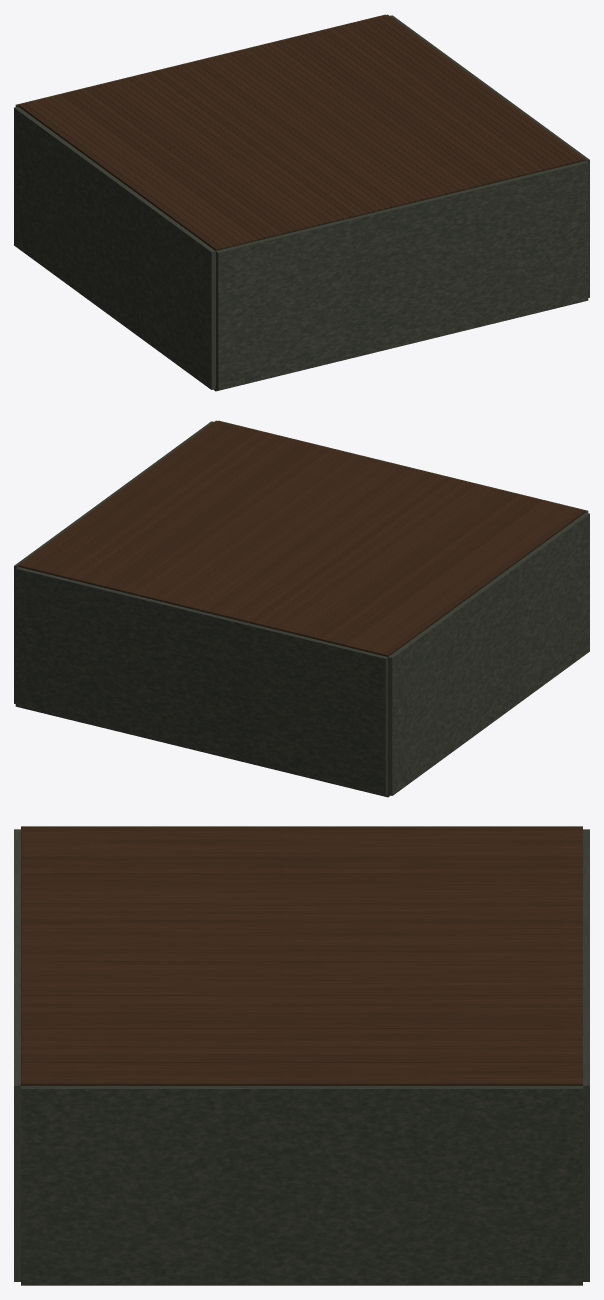
Rendered from workshop-360.glb.
The picture shows the model from 3 angles, top to bottom: view 1: azimuth 30°, elevation 25°; view 2: azimuth 150°, elevation 25°; view 3: azimuth 270°, elevation 25°; orthographic projection. The views are drawn at different scales.
Visible parts, largest first — view 1: Workshop360_wall, Workshop360_wood; view 2: Workshop360_wall, Workshop360_wood; view 3: Workshop360_wood, Workshop360_wall.
Part boxes in pixels (left/top/right/bottom): Workshop360_wall: left=14, top=14, right=589, bottom=390; Workshop360_wood: left=18, top=14, right=585, bottom=250; Workshop360_wall: left=14, top=420, right=589, bottom=796; Workshop360_wood: left=18, top=420, right=585, bottom=656; Workshop360_wood: left=21, top=827, right=582, bottom=1085; Workshop360_wall: left=14, top=826, right=589, bottom=1284.
Size of the model in its own units: 24.56 by 8.82 by 22.76.
Materials: 14 (12 with a texture image).
